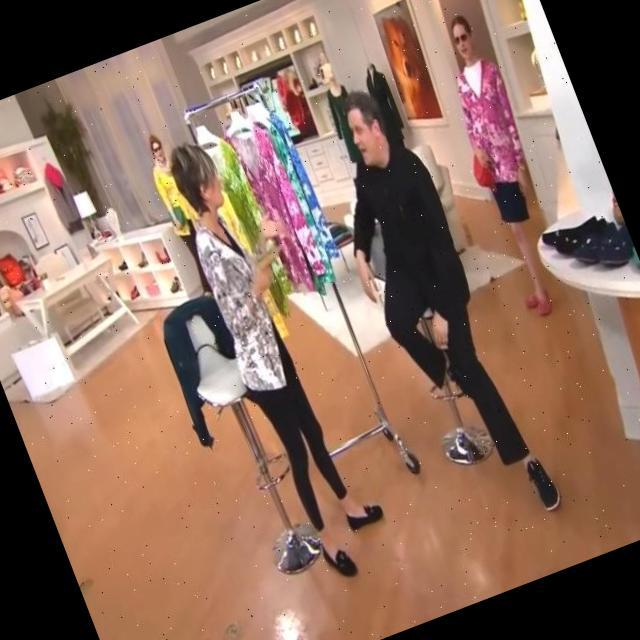person: (304, 72, 562, 540), (159, 124, 399, 582), (425, 6, 591, 324)
